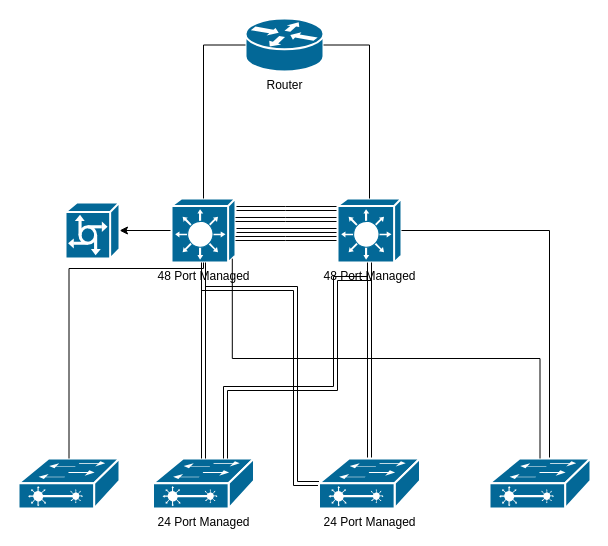
Some shapes in this 608 by 546 pixel diagram are drawn without their labels. The centre of each missing label's shape, as x and y in pixels:
5 Port Unmanaged: point (68, 483)
8 Port Managed: point (539, 483)
PiHole NanoPi DHCP: point (92, 230)
